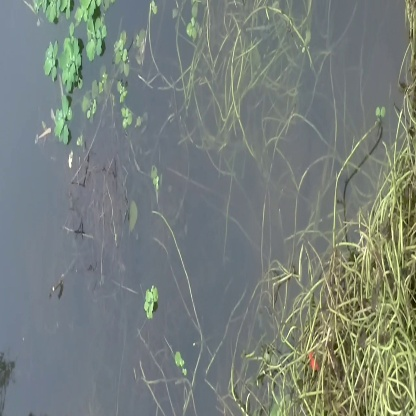leaf: (42, 39, 86, 88)
